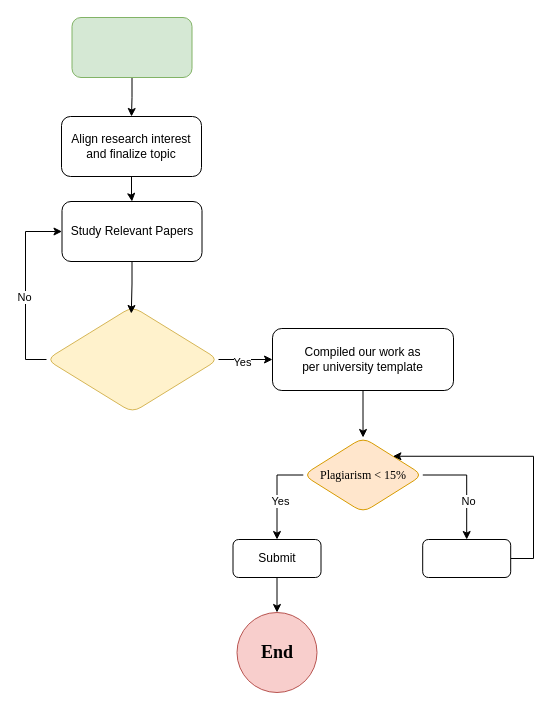
The diagram is 559 pixels wide and 710 high, and some of its shapes have lost their labels. The centre of each missing label's shape, as x and y in pixels:
P1 Start: the point at 131,47
Paraphrase: the point at 466,558
Sufficient Background knowledge: the point at 132,359
